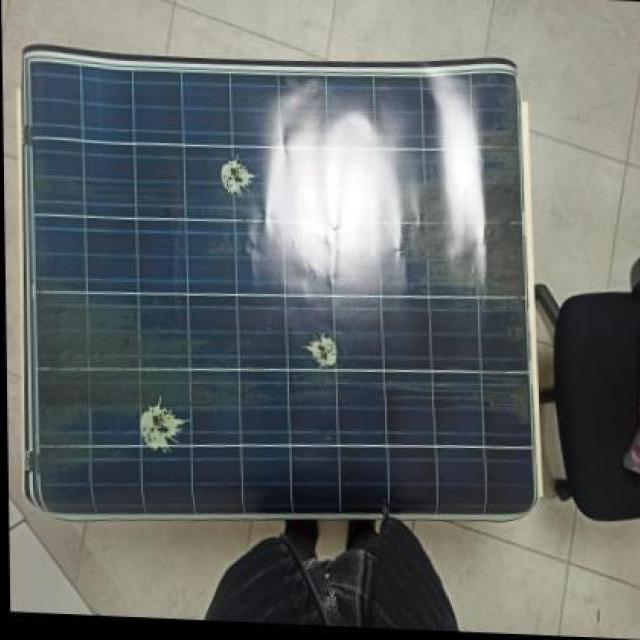soiled: (21, 57, 529, 520)
